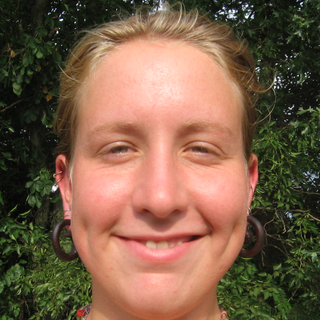eye: (94, 136, 143, 162), (176, 138, 225, 160)
